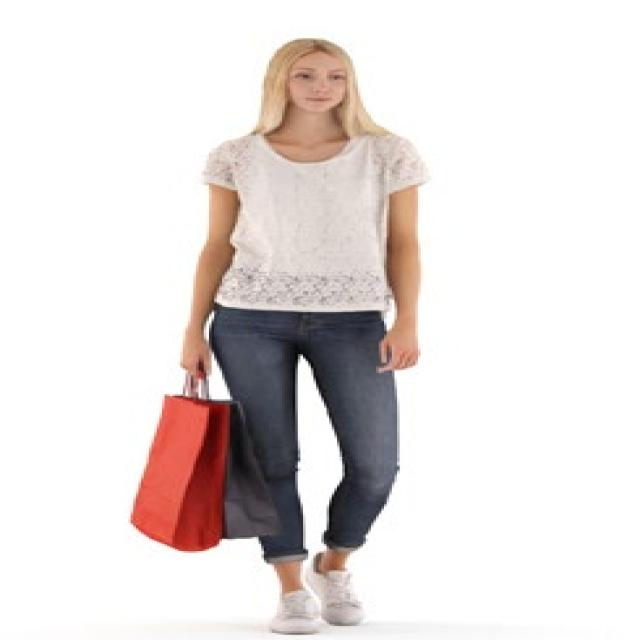standing: (176, 36, 431, 640)
